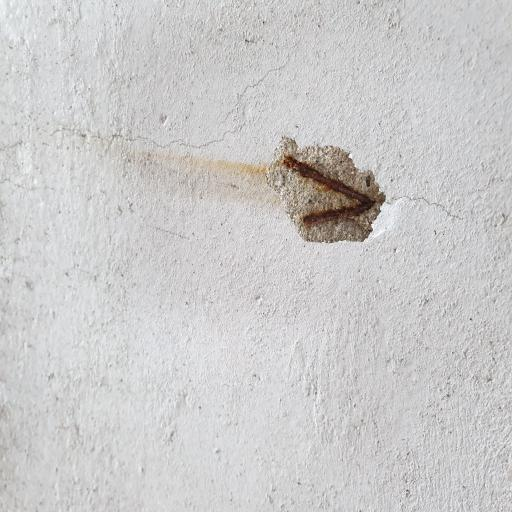exposed_rebar: (283, 155, 375, 226)
spalling: (267, 137, 385, 242)
